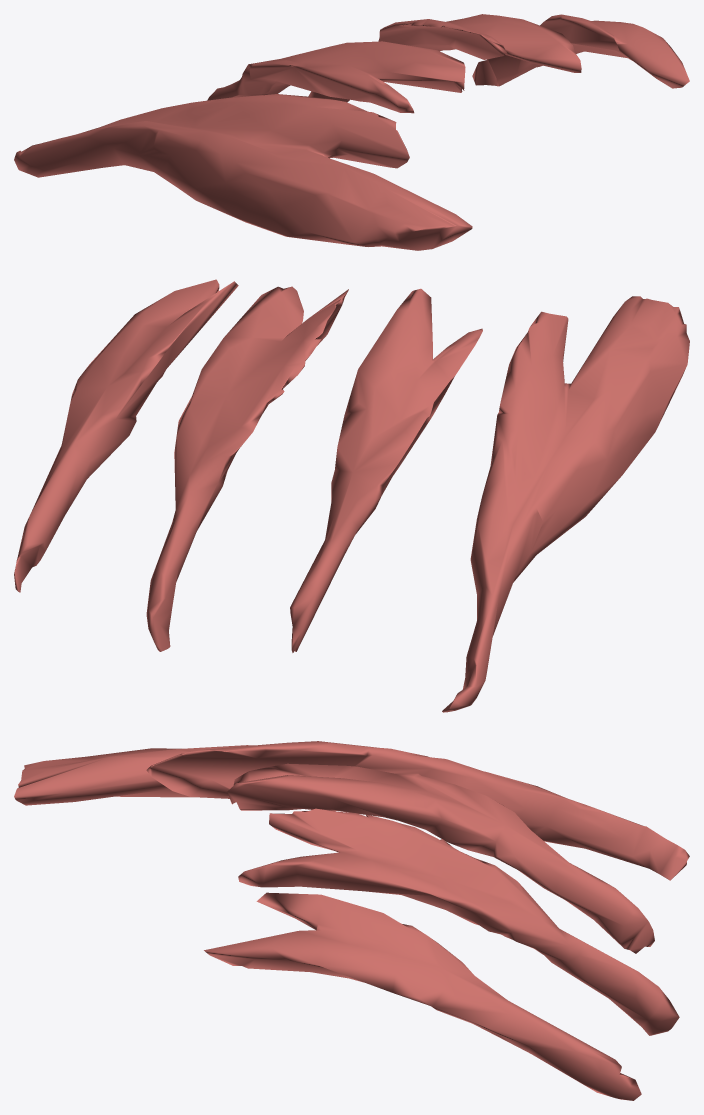
3 views of the same model, one above another, from view 1: azimuth 30°, elevation 25°; view 2: azimuth 150°, elevation 25°; view 3: azimuth 270°, elevation 25° (orthographic). The views are drawn at different scales.
Parts seen in each view (by area): view 1: 右侧骨间背侧肌; view 2: 右侧骨间背侧肌; view 3: 右侧骨间背侧肌.
Boxes of the visible parts, box(x1,y1,x2,y2) form: 右侧骨间背侧肌: box(14, 14, 689, 250); 右侧骨间背侧肌: box(14, 279, 689, 712); 右侧骨间背侧肌: box(14, 741, 689, 1100).
Size of the model in its own units: 0.0944 by 0.0391 by 0.1048.
